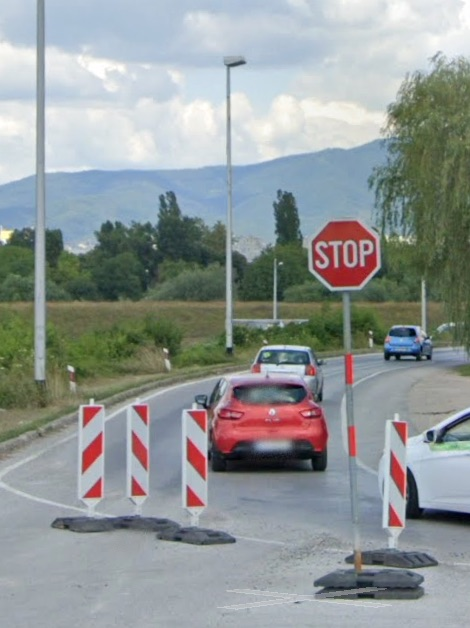Obavezno zaustavljanje: (309, 218, 381, 291)
